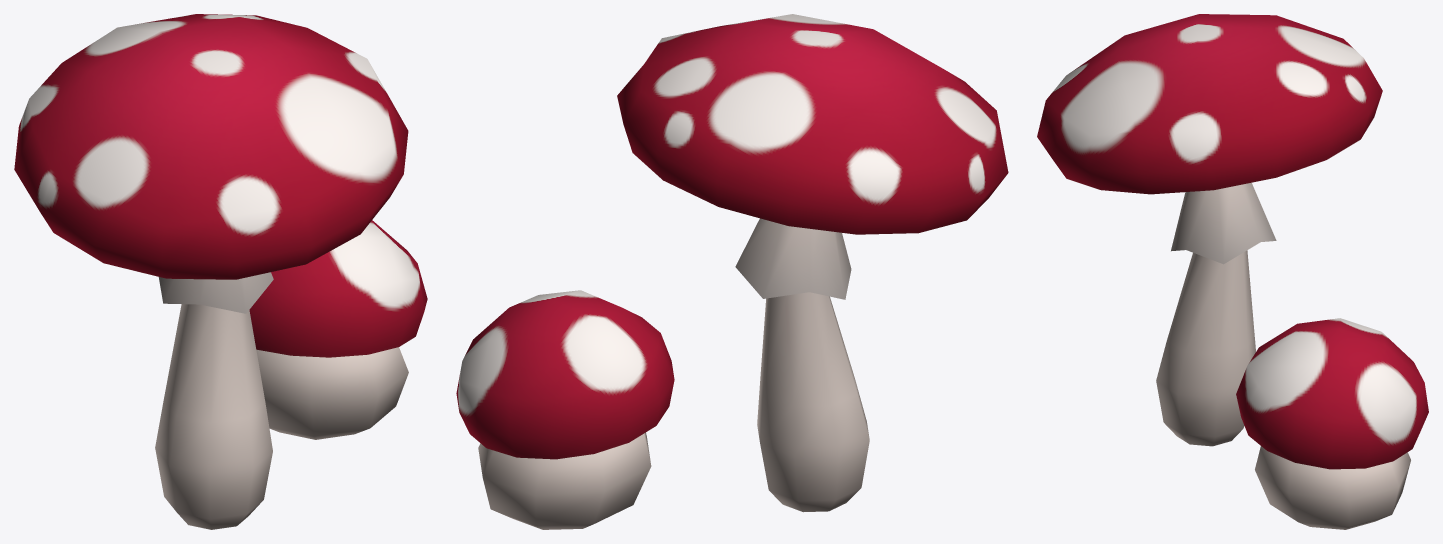
File: Fly_Agaric_Group_1.glb
3 renders of one model, left to right at view 1: azimuth 30°, elevation 25°; view 2: azimuth 150°, elevation 25°; view 3: azimuth 270°, elevation 25°, orthographic. The views are drawn at different scales.
Parts seen in each view (by area): view 1: Fly_Agaric_Group_1; view 2: Fly_Agaric_Group_1; view 3: Fly_Agaric_Group_1.
Boxes of the visible parts, bbox=[...] form: Fly_Agaric_Group_1: bbox=[14, 14, 427, 529]; Fly_Agaric_Group_1: bbox=[456, 14, 1008, 529]; Fly_Agaric_Group_1: bbox=[1037, 14, 1428, 529].
Size of the model in its own units: 0.1872 by 0.1855 by 0.1635.
Materials: 1 (1 with a texture image).
